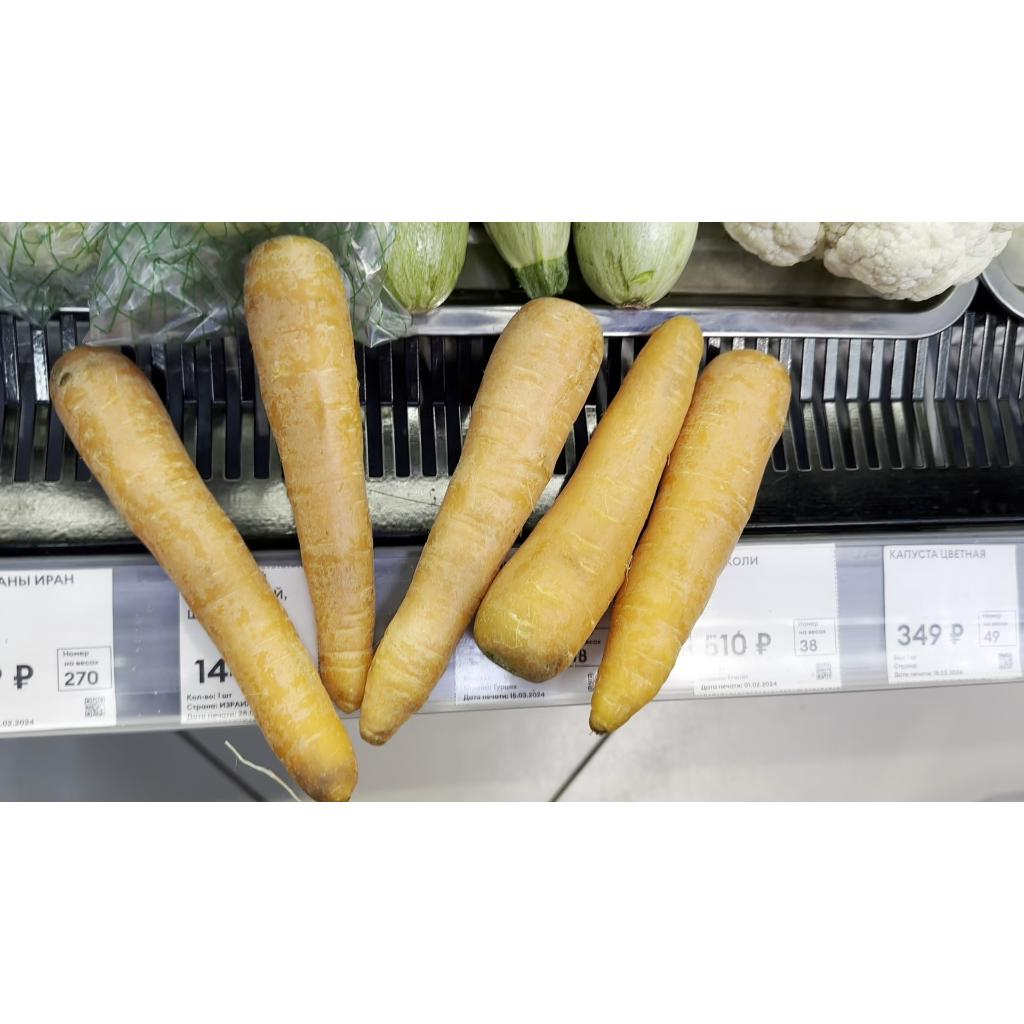carrot: (50, 346, 358, 800), (360, 298, 604, 744), (474, 316, 704, 682), (590, 350, 790, 734), (244, 236, 374, 712)
